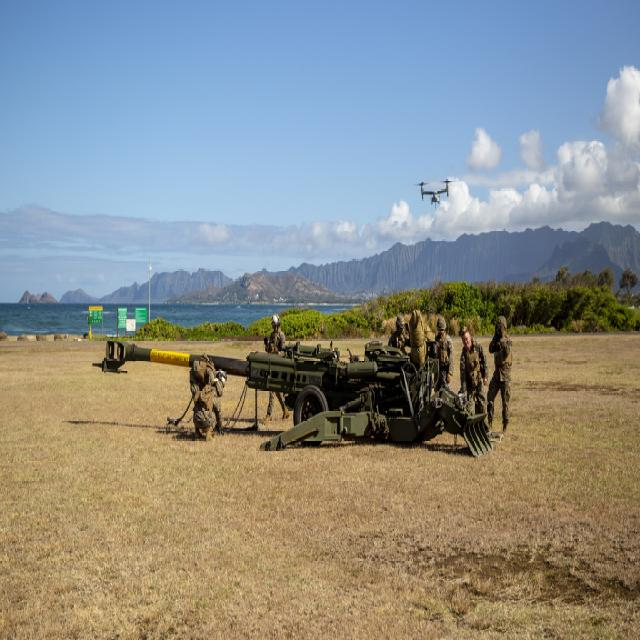MIL_Plane: (412, 178, 458, 205)
